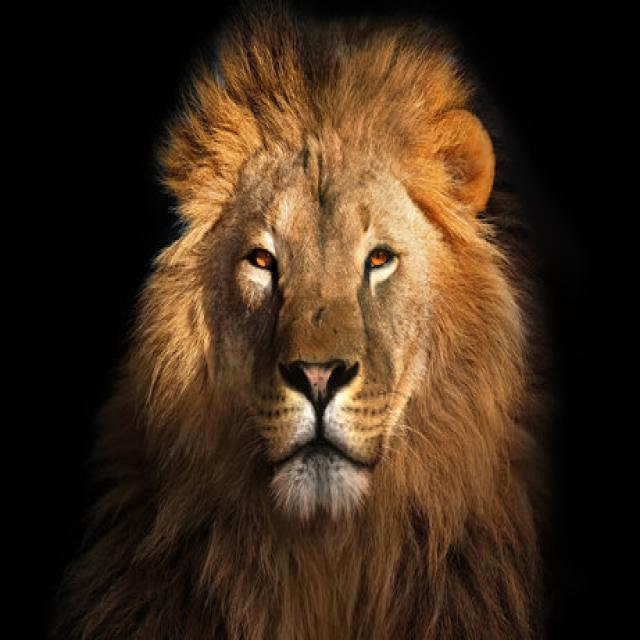lions: (32, 6, 640, 624)
